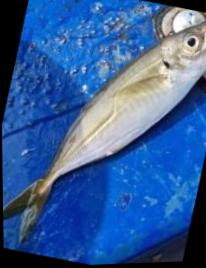fish: (2, 19, 206, 244)
